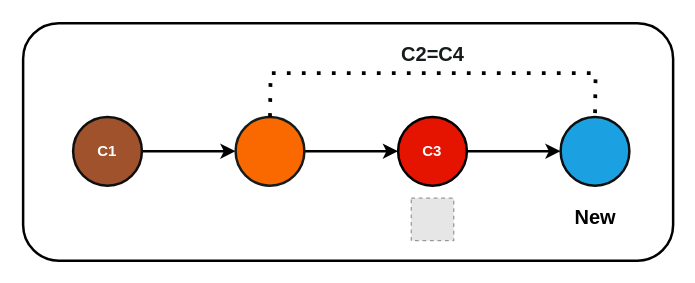
The diagram is 695 pixels wide and 283 high, and some of its shapes have lost their labels. Grey dashed boxes stand in for pictures. The shapes that lost their labels are listed below. From the top down, each one's centre as x and y in pixels, then its label:
At pixel 269 150: "C2".
At pixel 594 150: "C4".
